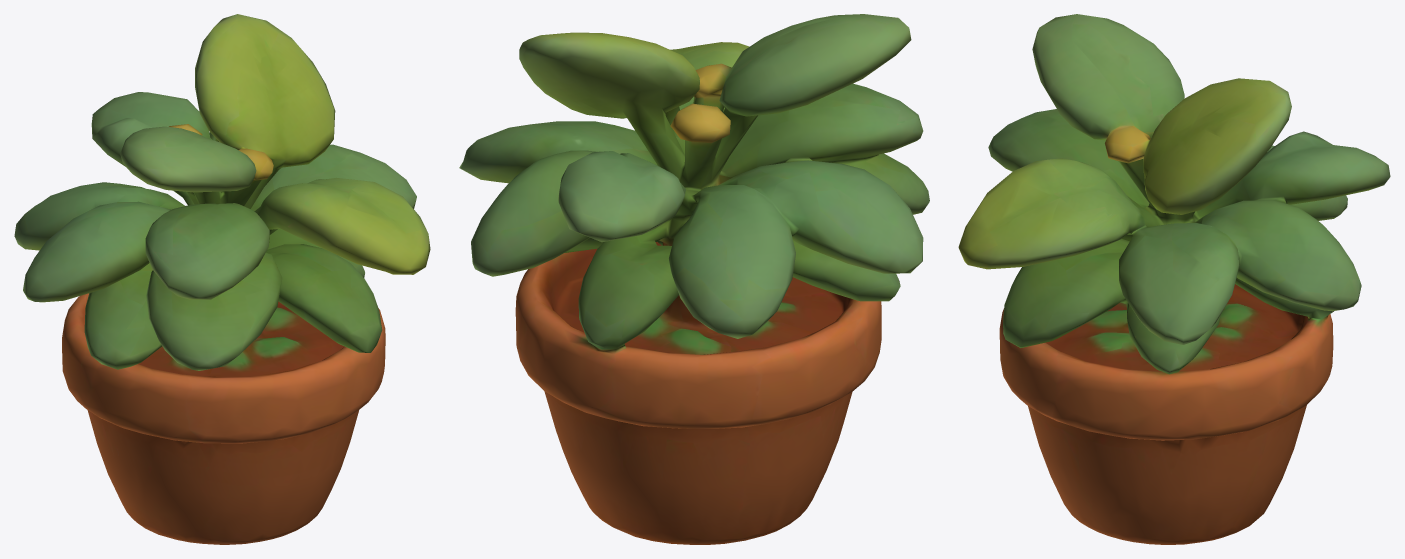
File: plant.glb
3 renders of one model, left to right at view 1: azimuth 30°, elevation 25°; view 2: azimuth 150°, elevation 25°; view 3: azimuth 270°, elevation 25°, orthographic. The views are drawn at different scales.
Visible parts, largest first — view 1: tripo_node_082ec08b-812f-4516-940f-d4b699ec3c55; view 2: tripo_node_082ec08b-812f-4516-940f-d4b699ec3c55; view 3: tripo_node_082ec08b-812f-4516-940f-d4b699ec3c55.
Boxes of the visible parts, left/top/right/bottom form: tripo_node_082ec08b-812f-4516-940f-d4b699ec3c55: left=14, top=14, right=430, bottom=544; tripo_node_082ec08b-812f-4516-940f-d4b699ec3c55: left=459, top=14, right=929, bottom=544; tripo_node_082ec08b-812f-4516-940f-d4b699ec3c55: left=958, top=14, right=1390, bottom=544.
Bounding box in the file's own units: 0.9463 × 0.9992 × 0.8716.
Materials: 1 (1 with a texture image).
